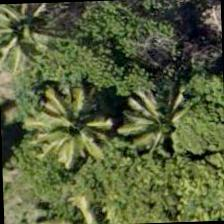Kelapa_Sawit: (22, 82, 115, 175), (0, 2, 67, 81)
